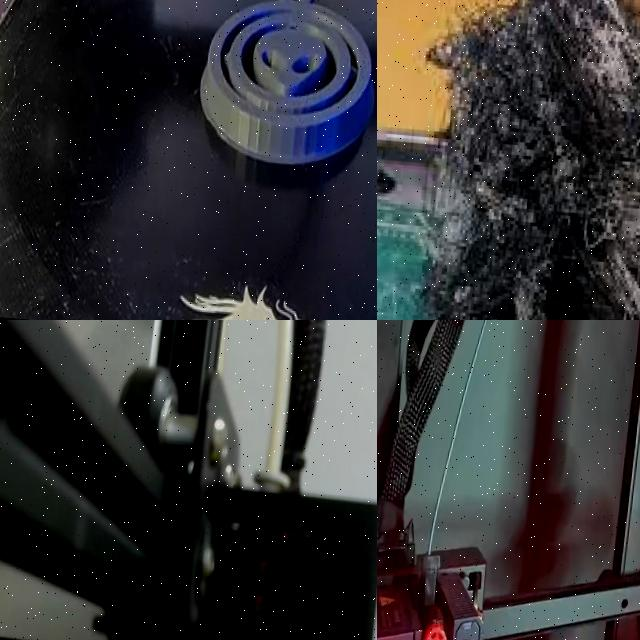spaghetti: (423, 0, 640, 320)
